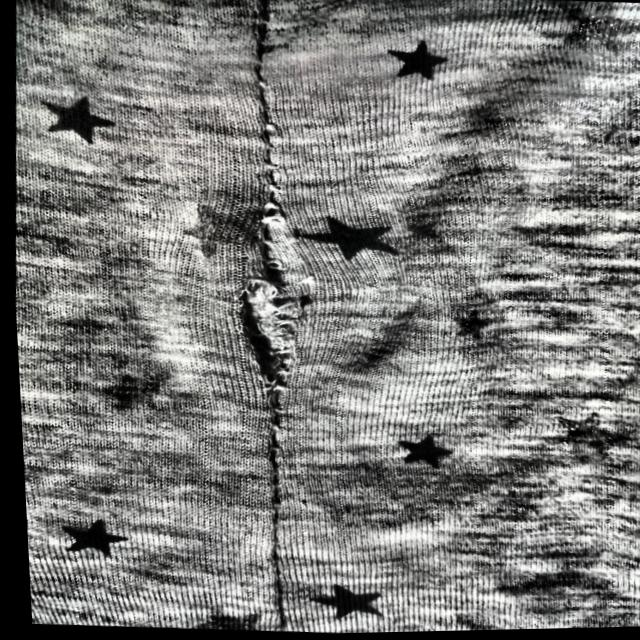Stitch: (200, 180, 329, 415)
